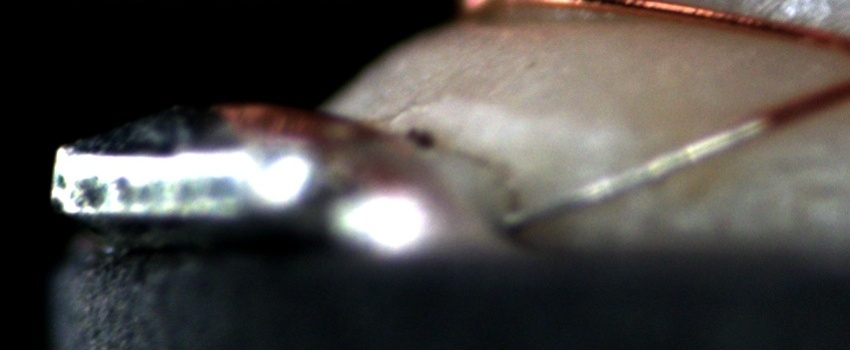TS: (502, 115, 767, 231)
